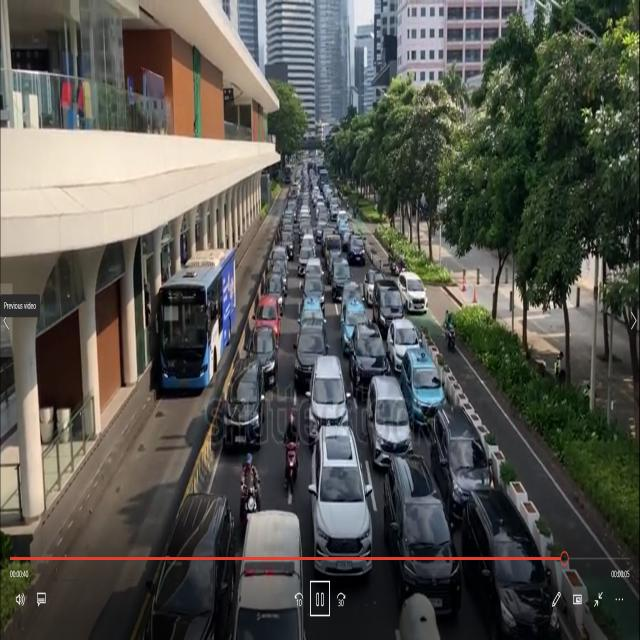Ambulance: (238, 507, 304, 640)
